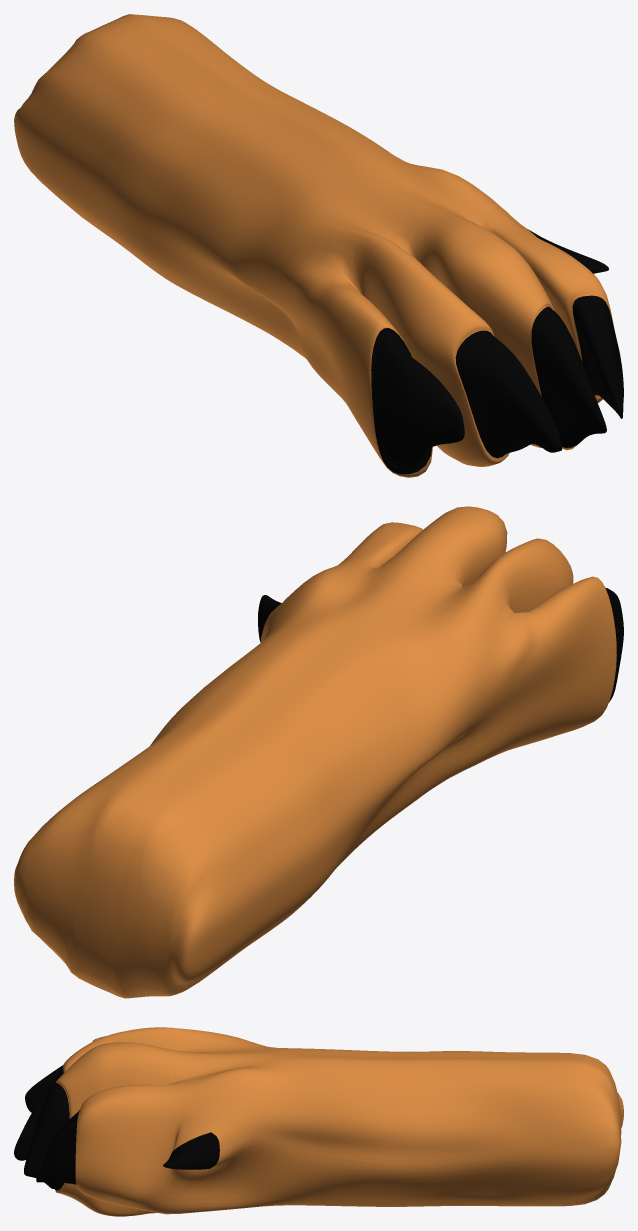
The model's file is Dog_R_Paw_Tex.fbx.
3 views of the same model, one above another, from view 1: azimuth 30°, elevation 25°; view 2: azimuth 150°, elevation 25°; view 3: azimuth 270°, elevation 25° (orthographic). The views are drawn at different scales.
Visible parts, largest first — view 1: Cylinder; view 2: Cylinder; view 3: Cylinder.
Boxes of the visible parts, <box> form: Cylinder: <box>14,14,623,477</box>; Cylinder: <box>14,506,623,998</box>; Cylinder: <box>14,1027,623,1216</box>.
Bounding box in the file's own units: 52.5 × 38.64 × 137.
